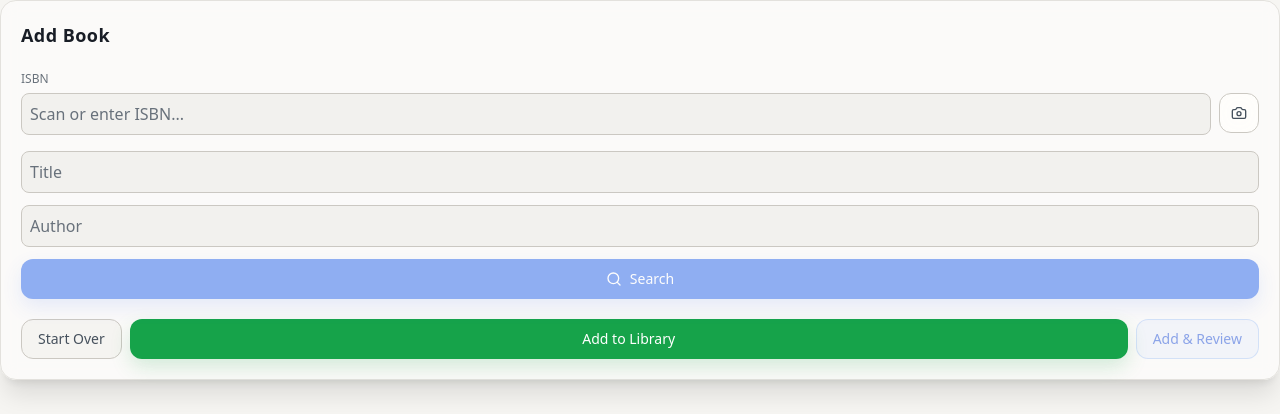
keeps ISBN and title/author modes exclusive
The width and height of the screenshot is (1280, 414).
Type "Catalog title" into the field with placeholder "Title".
click(640, 172); type("Catalog title")  # box [21,151,1259,193]
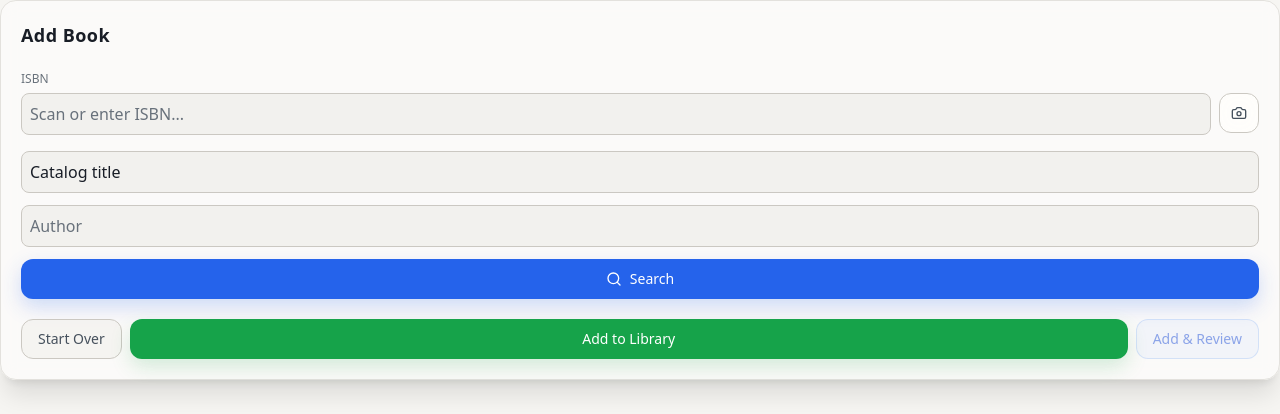
Type "9780306406157" into the field with placeholder "Scan or enter ISBN...".
click(616, 114); type("9780306406157")  # box [21,93,1211,135]
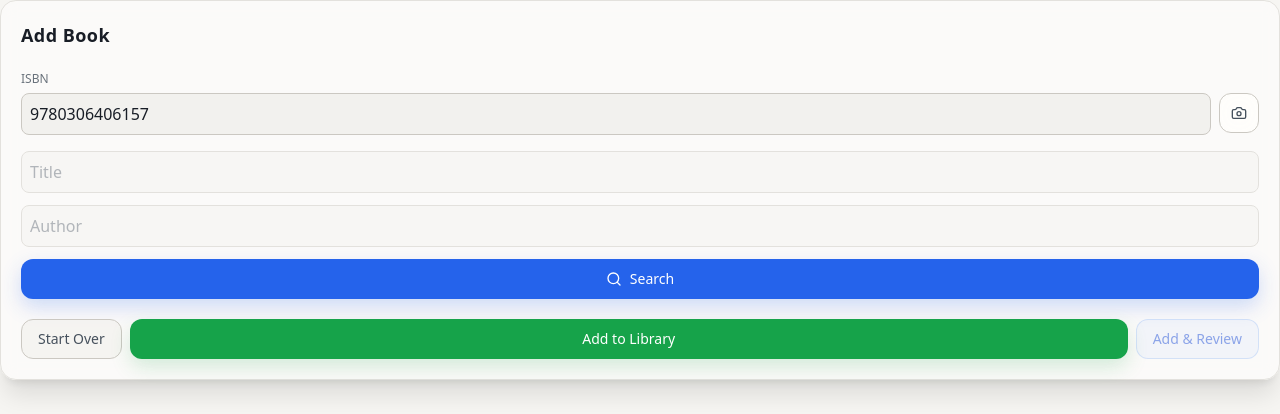
Expected: the field with placeholder "Title" is empty, [21,151,1259,193]
Expected: the field with placeholder "Title" is disabled, [21,151,1259,193]
Expected: the field with placeholder "Author" is disabled, [21,205,1259,247]
